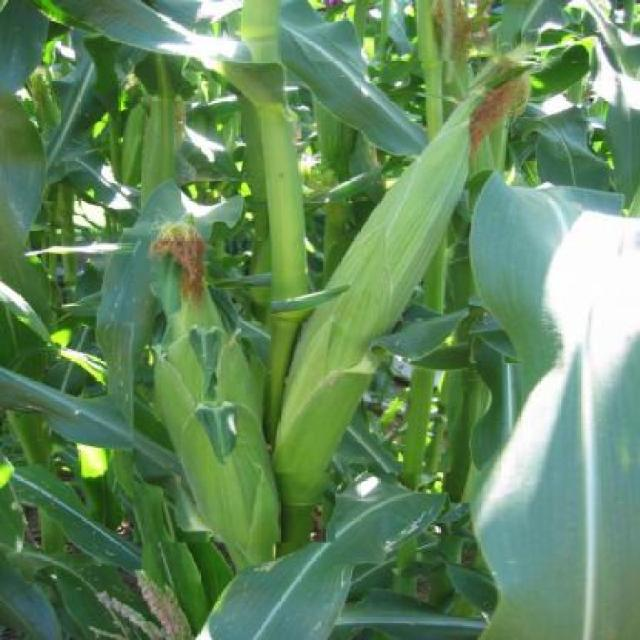Corn: (272, 60, 471, 474), (134, 240, 337, 543)
